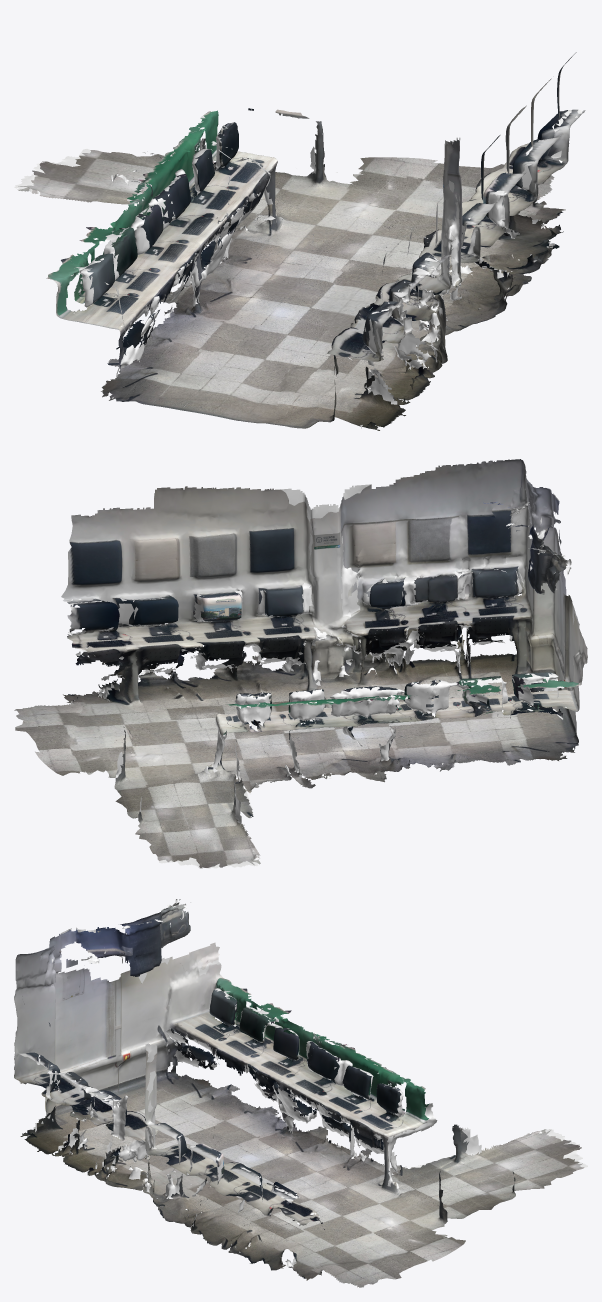
3 views of the same model, one above another, from view 1: azimuth 30°, elevation 25°; view 2: azimuth 150°, elevation 25°; view 3: azimuth 270°, elevation 25° (orthographic). The views are drawn at different scales.
Visible parts, largest first — view 1: 3, 2, 5, 4, 1, 0; view 2: 3, 1, 4, 2, 0, 5; view 3: 3, 2, 4, 5, 1, 0.
Part boxes in pixels (x1=…): 3: x1=141, y1=52, x2=585, y2=375; 2: x1=17, y1=109, x2=329, y2=369; 5: x1=46, y1=177, x2=292, y2=423; 4: x1=101, y1=203, x2=463, y2=430; 1: x1=127, y1=89, x2=548, y2=404; 0: x1=14, y1=109, x2=581, y2=428; 3: x1=14, y1=507, x2=489, y2=819; 1: x1=107, y1=486, x2=550, y2=788; 4: x1=299, y1=459, x2=577, y2=760; 2: x1=77, y1=495, x2=576, y2=868; 0: x1=66, y1=484, x2=583, y2=868; 5: x1=335, y1=525, x2=587, y2=773; 3: x1=145, y1=1058, x2=515, y2=1287; 2: x1=44, y1=899, x2=584, y2=1224; 4: x1=14, y1=934, x2=286, y2=1195; 5: x1=66, y1=902, x2=346, y2=1152; 1: x1=58, y1=904, x2=425, y2=1257; 0: x1=33, y1=899, x2=587, y2=1271.
Bounding box in the file's own units: 6.62 × 2.62 × 7.02.
6 materials, 5 textured.
